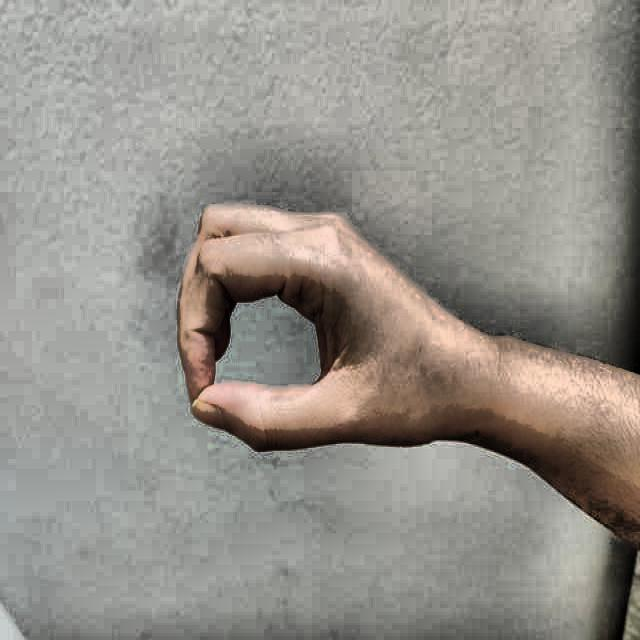O: (165, 178, 459, 479)
